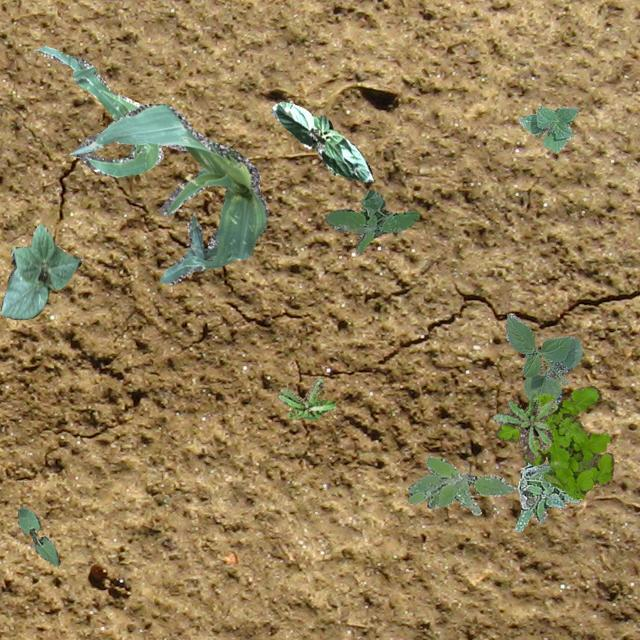crop: (68, 102, 268, 284), (34, 44, 162, 176), (269, 100, 372, 182), (0, 224, 81, 318), (504, 312, 582, 404), (516, 106, 576, 152), (16, 506, 58, 566)
weed: (494, 384, 612, 498), (408, 456, 514, 514), (324, 190, 418, 252), (514, 461, 580, 532), (492, 390, 556, 460), (276, 378, 336, 418)
